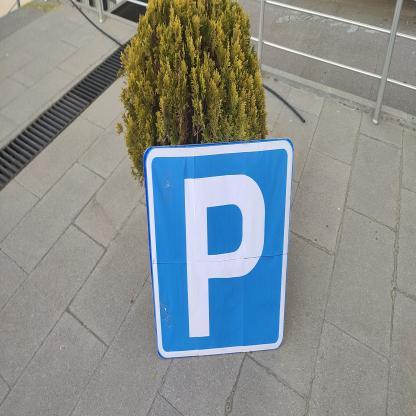parking: (143, 139, 294, 365)
